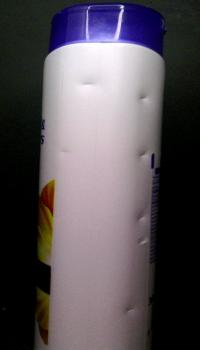dent_marginal: (135, 200, 151, 225), (78, 80, 106, 94), (132, 147, 150, 164), (134, 92, 153, 107), (133, 234, 149, 250), (60, 146, 78, 160), (121, 304, 139, 317)
